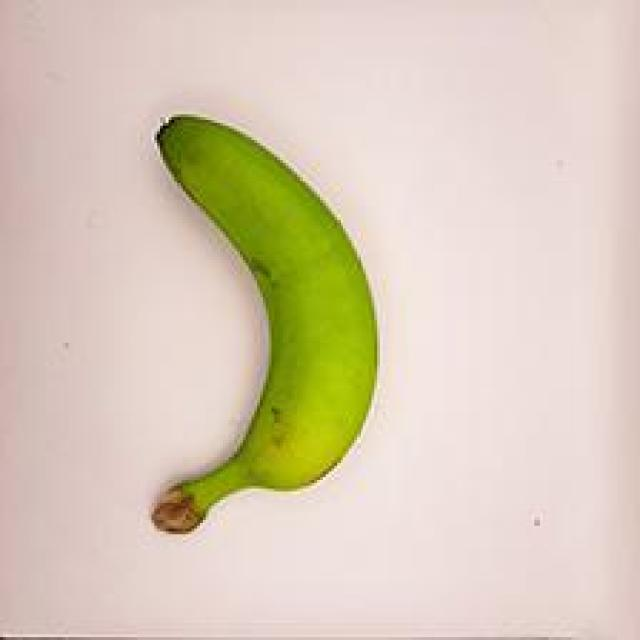Unripe: (104, 94, 424, 563)
